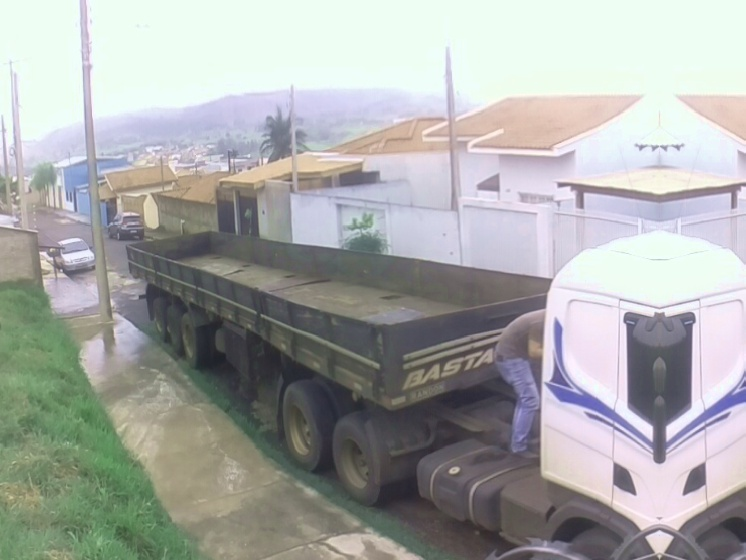person: (492, 308, 548, 456)
